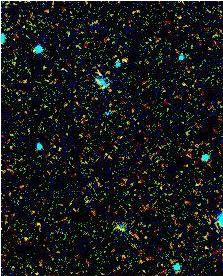star: (111, 47, 141, 77)
